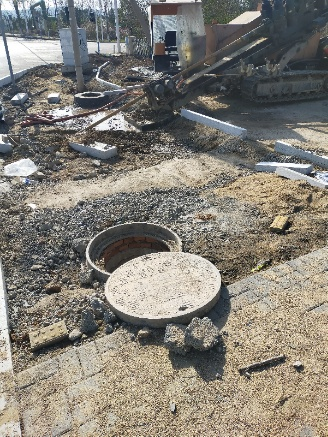uncovered: (85, 220, 222, 325)
